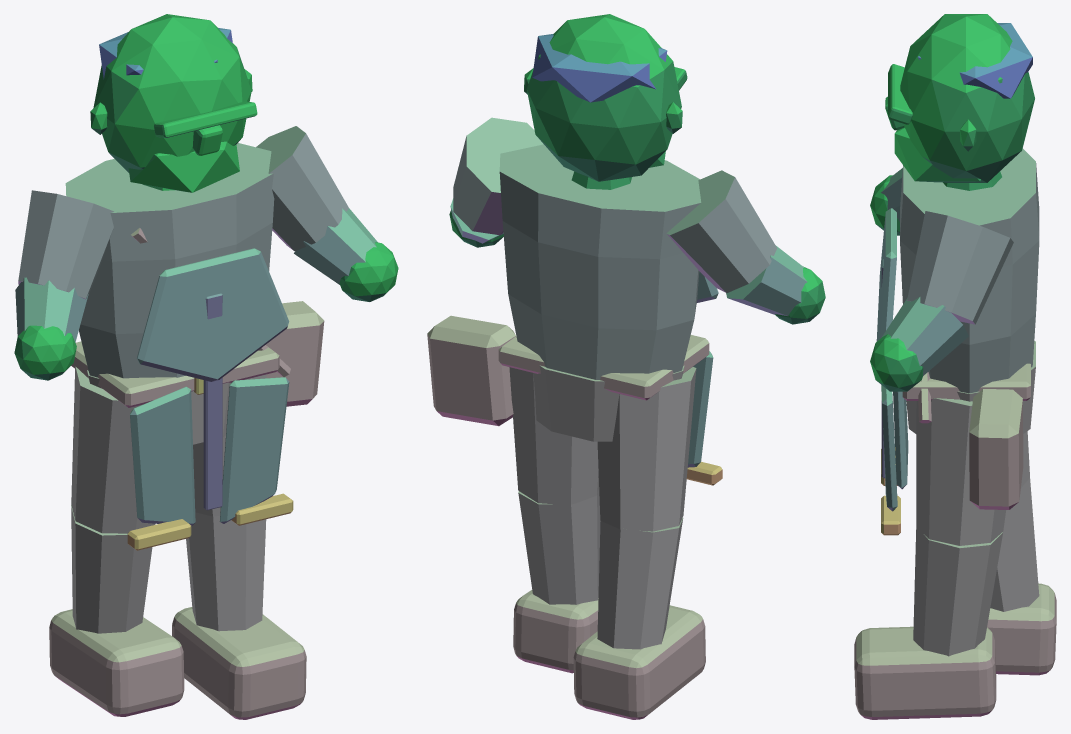
File: npc_merchant_react_v01.glb
3 renders of one model, left to right at view 1: azimuth 30°, elevation 25°; view 2: azimuth 150°, elevation 25°; view 3: azimuth 270°, elevation 25°, orthographic. The views are drawn at different scales.
Parts seen in each view (by area): view 1: GEO_npc_merchant_react_v01; view 2: GEO_npc_merchant_react_v01; view 3: GEO_npc_merchant_react_v01.
Part boxes in pixels (bbox=[...]): GEO_npc_merchant_react_v01: bbox=[14, 14, 398, 719]; GEO_npc_merchant_react_v01: bbox=[427, 14, 825, 719]; GEO_npc_merchant_react_v01: bbox=[854, 14, 1056, 719].
Size of the model in its own units: 1.21 by 2.08 by 0.5698.
